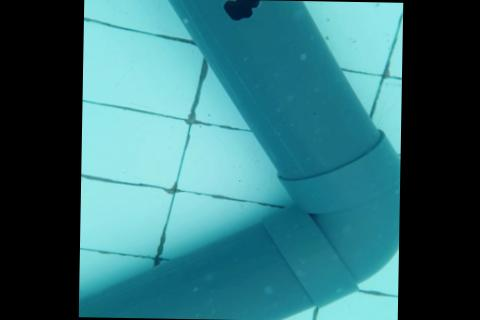kebocoran: (220, 0, 260, 22)
